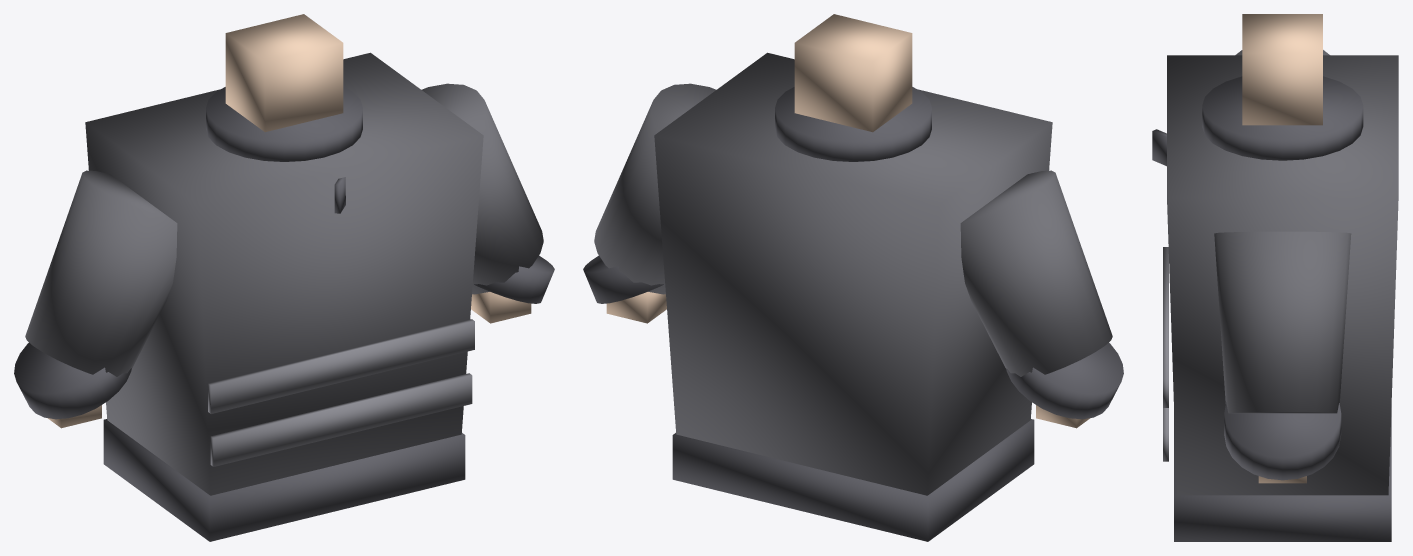
The model's file is row4_07_crewneck_charcoal.glb.
3 renders of one model, left to right at view 1: azimuth 30°, elevation 25°; view 2: azimuth 150°, elevation 25°; view 3: azimuth 270°, elevation 25°, orthographic. The views are drawn at different scales.
Parts seen in each view (by area): view 1: Torso_07_crewneck_charcoal, Sleeve_R_07_crewneck_charcoal, Hem_07_crewneck_charcoal, Neck_07_crewneck_charcoal, Sleeve_L_07_crewneck_charcoal, Stripe_1_07_crewneck_charcoal, Stripe_2_07_crewneck_charcoal, Collar_07_crewneck_charcoal, Cuff_R_07_crewneck_charcoal, Cuff_L_07_crewneck_charcoal, Wrist_L_07_crewneck_charcoal; view 2: Torso_07_crewneck_charcoal, Sleeve_R_07_crewneck_charcoal, Hem_07_crewneck_charcoal, Neck_07_crewneck_charcoal, Sleeve_L_07_crewneck_charcoal, Collar_07_crewneck_charcoal, Cuff_R_07_crewneck_charcoal, Cuff_L_07_crewneck_charcoal, Wrist_L_07_crewneck_charcoal; view 3: Torso_07_crewneck_charcoal, Sleeve_L_07_crewneck_charcoal, Hem_07_crewneck_charcoal, Neck_07_crewneck_charcoal, Collar_07_crewneck_charcoal, Cuff_L_07_crewneck_charcoal, Stripe_1_07_crewneck_charcoal, V_Insert_07_crewneck_charcoal, Stripe_2_07_crewneck_charcoal.
Boxes of the visible parts, x1=… form: Torso_07_crewneck_charcoal: x1=85, y1=52, x2=483, y2=495; Sleeve_R_07_crewneck_charcoal: x1=25, y1=170, x2=177, y2=376; Hem_07_crewneck_charcoal: x1=103, y1=419, x2=465, y2=541; Neck_07_crewneck_charcoal: x1=225, y1=14, x2=343, y2=132; Sleeve_L_07_crewneck_charcoal: x1=421, y1=83, x2=543, y2=294; Stripe_1_07_crewneck_charcoal: x1=208, y1=319, x2=474, y2=413; Stripe_2_07_crewneck_charcoal: x1=210, y1=373, x2=472, y2=466; Collar_07_crewneck_charcoal: x1=206, y1=87, x2=362, y2=161; Cuff_R_07_crewneck_charcoal: x1=14, y1=342, x2=131, y2=419; Cuff_L_07_crewneck_charcoal: x1=474, y1=255, x2=554, y2=303; Wrist_L_07_crewneck_charcoal: x1=471, y1=292, x2=531, y2=323; Torso_07_crewneck_charcoal: x1=654, y1=52, x2=1052, y2=495; Sleeve_R_07_crewneck_charcoal: x1=960, y1=170, x2=1112, y2=376; Hem_07_crewneck_charcoal: x1=672, y1=419, x2=1034, y2=541; Neck_07_crewneck_charcoal: x1=794, y1=14, x2=912, y2=132; Sleeve_L_07_crewneck_charcoal: x1=594, y1=83, x2=716, y2=294; Collar_07_crewneck_charcoal: x1=775, y1=87, x2=931, y2=161; Cuff_R_07_crewneck_charcoal: x1=1006, y1=342, x2=1123, y2=419; Cuff_L_07_crewneck_charcoal: x1=583, y1=255, x2=663, y2=303; Wrist_L_07_crewneck_charcoal: x1=606, y1=292, x2=666, y2=323; Torso_07_crewneck_charcoal: x1=1167, y1=55, x2=1398, y2=495; Sleeve_L_07_crewneck_charcoal: x1=1214, y1=231, x2=1351, y2=413; Hem_07_crewneck_charcoal: x1=1174, y1=408, x2=1391, y2=541; Neck_07_crewneck_charcoal: x1=1242, y1=14, x2=1322, y2=125; Collar_07_crewneck_charcoal: x1=1202, y1=76, x2=1363, y2=160; Cuff_L_07_crewneck_charcoal: x1=1224, y1=402, x2=1341, y2=480; Stripe_1_07_crewneck_charcoal: x1=1163, y1=247, x2=1168, y2=407; V_Insert_07_crewneck_charcoal: x1=1152, y1=129, x2=1166, y2=166; Stripe_2_07_crewneck_charcoal: x1=1163, y1=408, x2=1168, y2=461.
Bounding box in the file's own units: 0.6157 × 0.487 × 0.2444.
